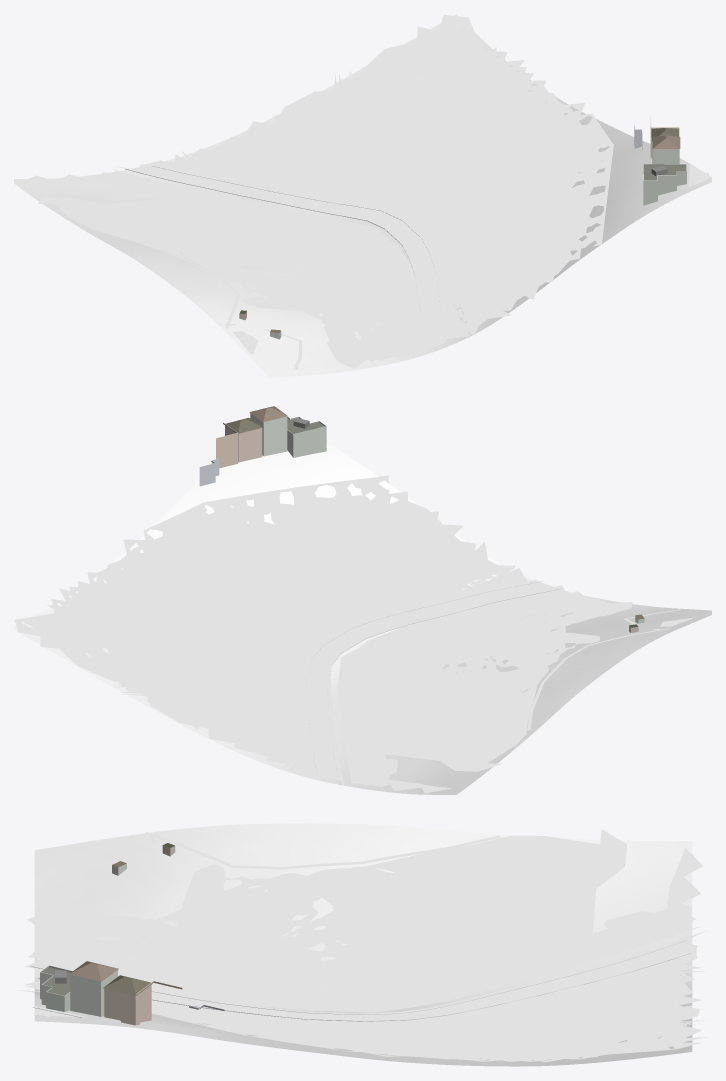
3 views of the same model, one above another, from view 1: azimuth 30°, elevation 25°; view 2: azimuth 150°, elevation 25°; view 3: azimuth 270°, elevation 25° (orthographic). The views are drawn at different scales.
Visible parts, largest first — view 1: t0_-10_-9; view 2: t0_-10_-9; view 3: t0_-10_-9.
Boxes of the visible parts, x1=… form: t0_-10_-9: x1=14, y1=14, x2=711, y2=377; t0_-10_-9: x1=14, y1=406, x2=711, y2=794; t0_-10_-9: x1=16, y1=823, x2=709, y2=1066.
Size of the model in its own units: 269 by 76.08 by 272.
